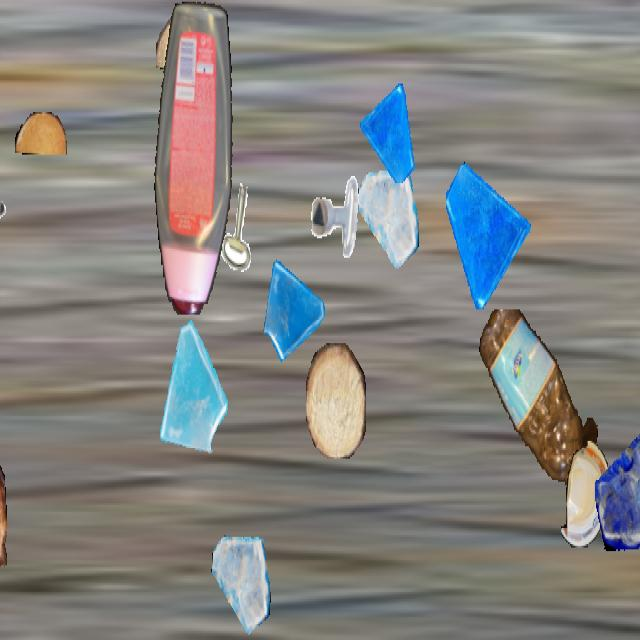glass: (446, 158, 530, 308), (149, 318, 229, 461), (261, 249, 327, 366), (595, 404, 640, 556), (358, 165, 418, 272), (211, 532, 271, 638), (360, 82, 416, 181)
metal: (213, 178, 269, 277), (310, 172, 362, 265), (0, 183, 13, 261), (628, 98, 640, 169)
plastic: (153, 2, 237, 314), (476, 310, 600, 483), (561, 441, 611, 547)
wood: (306, 343, 366, 457), (156, 16, 230, 73), (15, 112, 67, 155), (0, 414, 6, 638)
